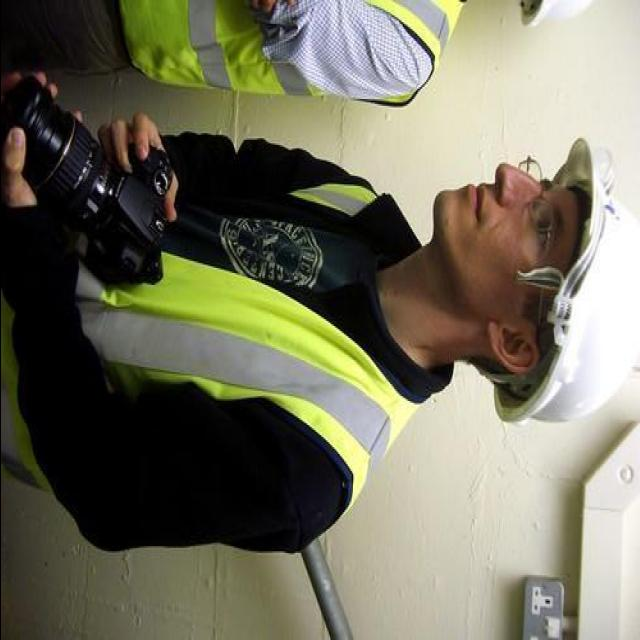helmet: (492, 118, 632, 446)
jacket: (2, 124, 409, 552)
